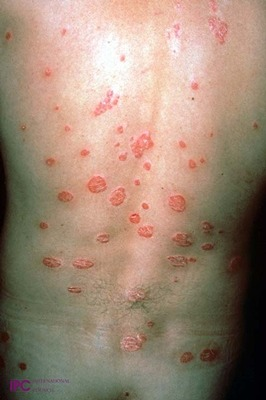Psoriasis: (126, 128, 160, 162), (204, 8, 230, 49), (96, 88, 124, 123), (118, 329, 147, 355), (106, 185, 133, 209), (165, 252, 197, 270), (167, 191, 188, 217), (172, 225, 192, 251), (86, 174, 108, 197), (64, 281, 86, 301), (43, 254, 62, 277), (70, 257, 98, 271), (137, 224, 156, 242), (201, 347, 220, 364), (57, 189, 77, 204), (41, 154, 58, 170), (179, 349, 197, 364)
